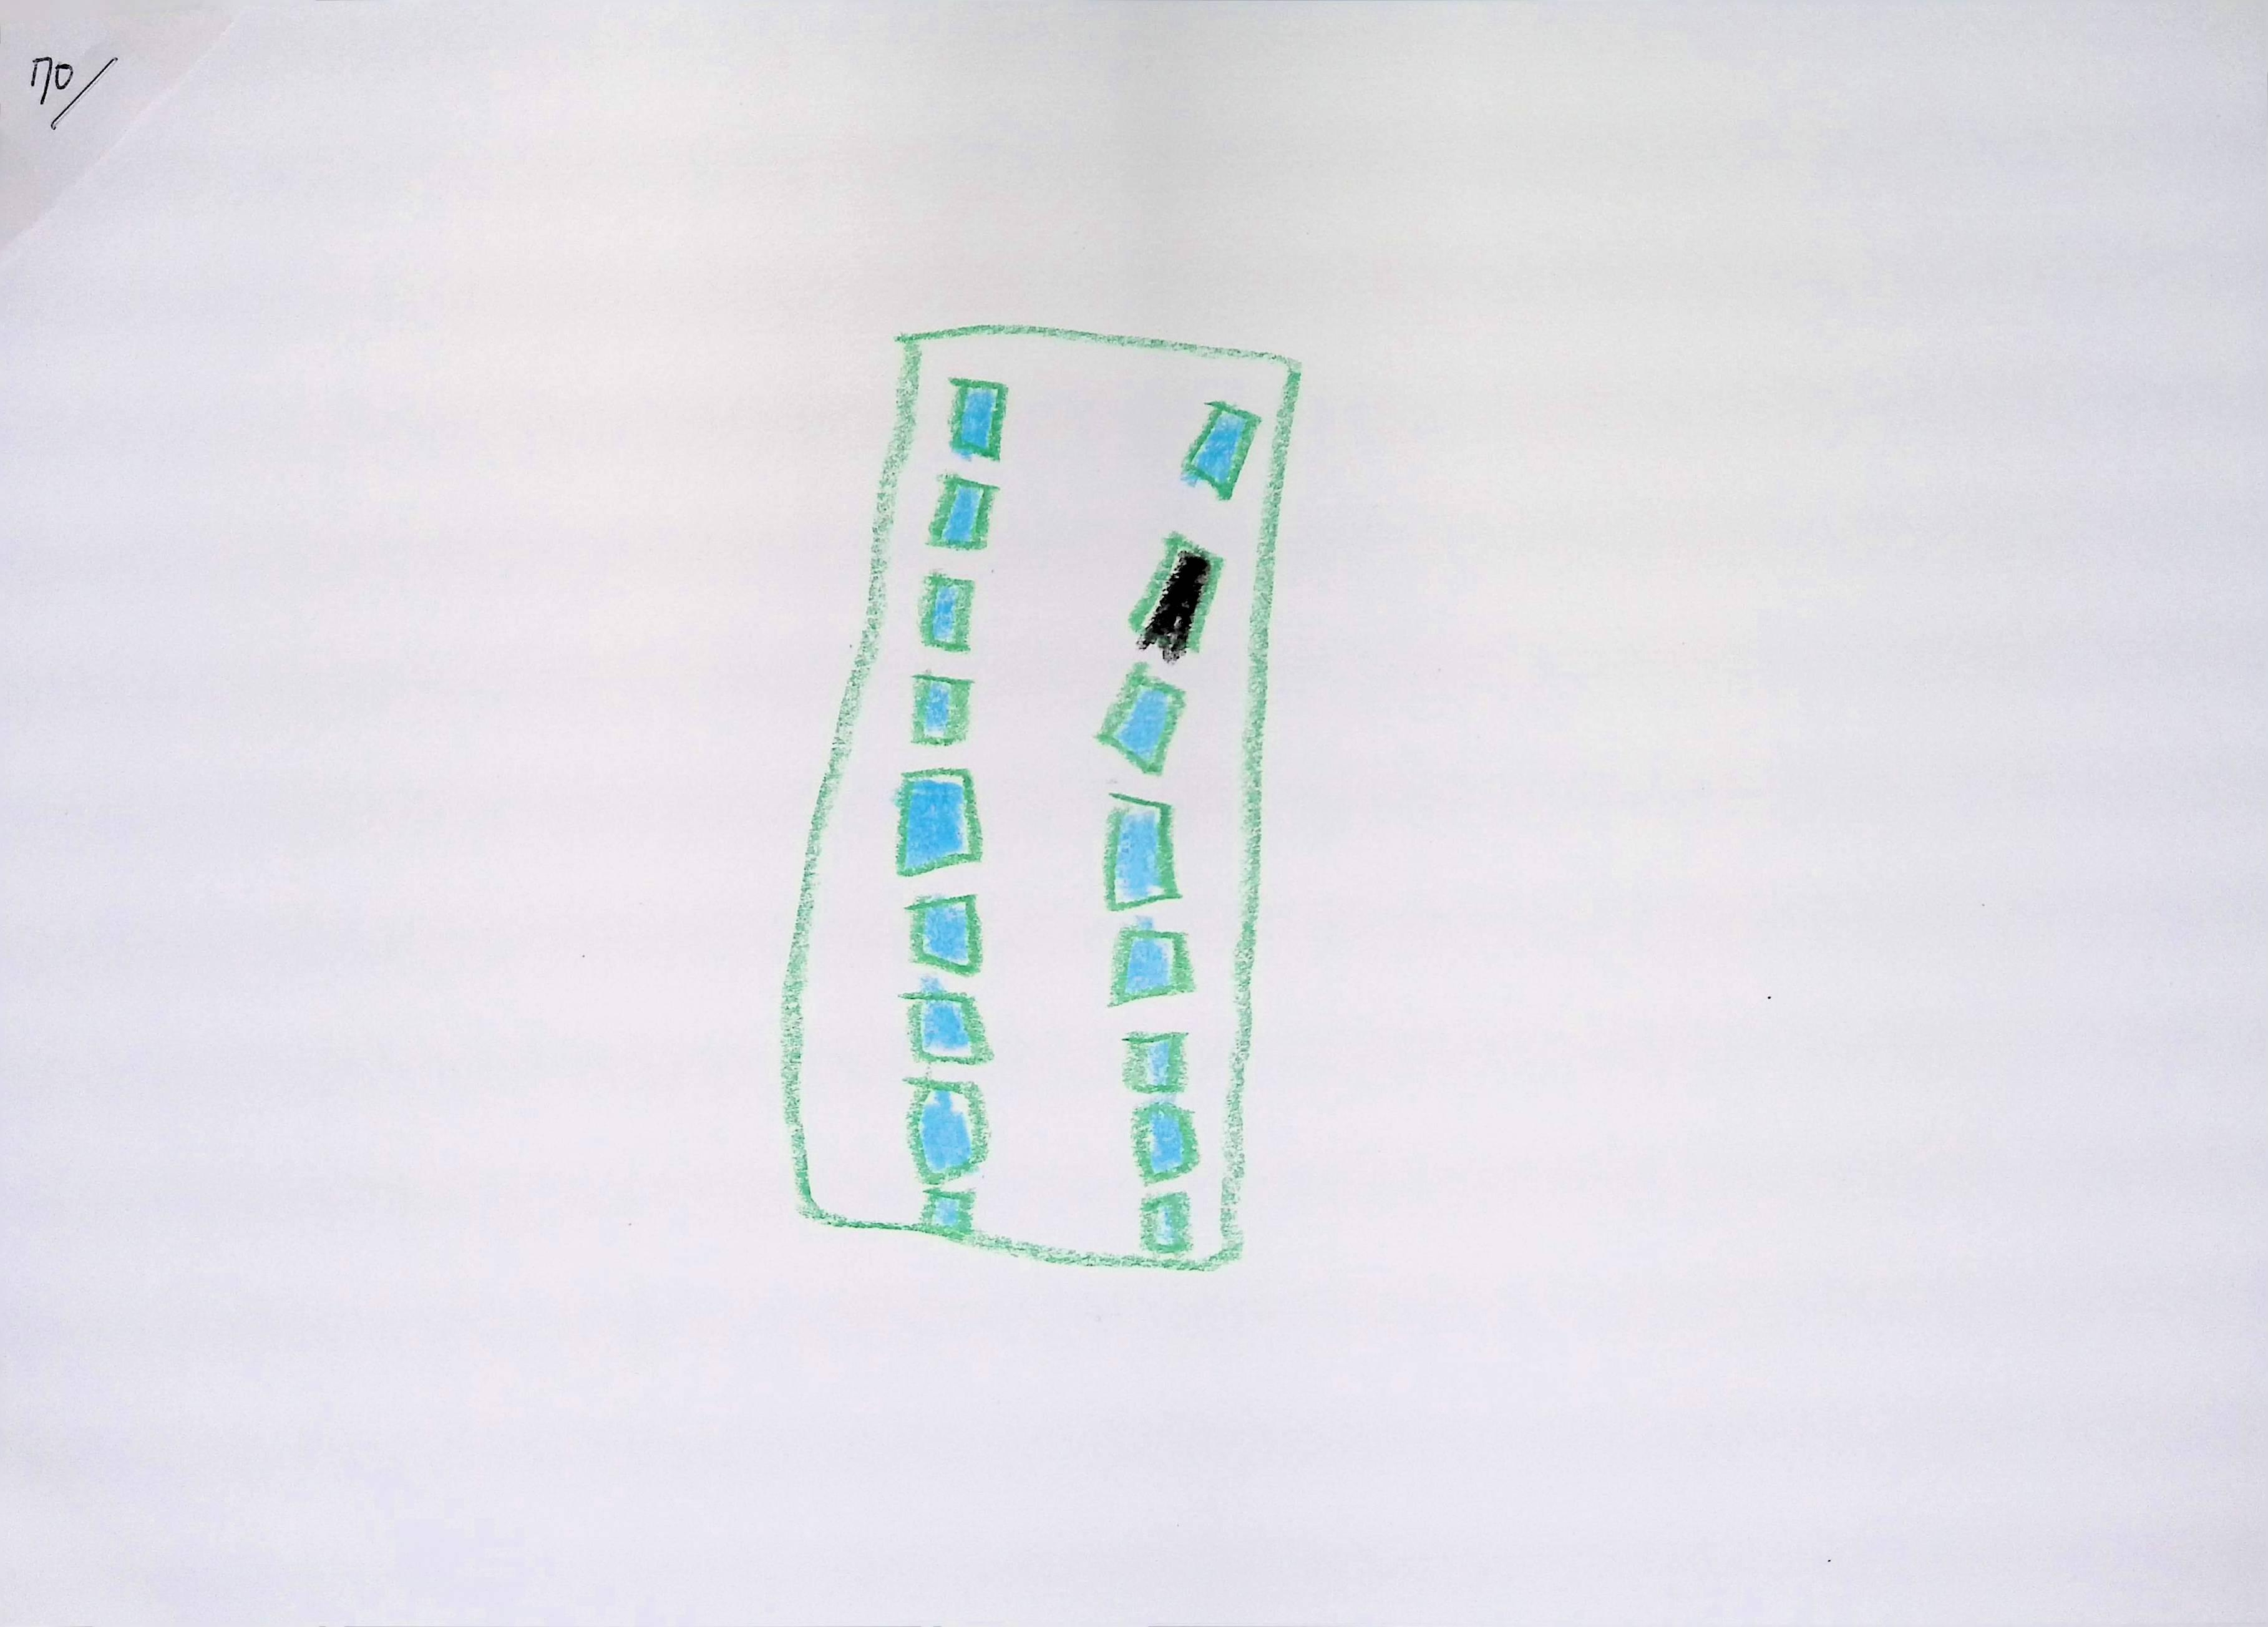house: (784, 324, 1301, 1271)
wall: (784, 324, 1300, 1271)
window: (1129, 532, 1224, 659), (1099, 664, 1185, 773), (896, 769, 979, 875), (907, 1081, 988, 1185), (1106, 796, 1178, 910), (1182, 400, 1261, 498), (1111, 926, 1194, 1005), (905, 990, 990, 1064), (907, 896, 981, 974), (1134, 1102, 1197, 1183), (930, 474, 997, 548), (951, 377, 1007, 458), (912, 673, 970, 745), (921, 572, 974, 650), (1123, 1034, 1187, 1093), (1141, 1194, 1192, 1255), (921, 1190, 974, 1238)
